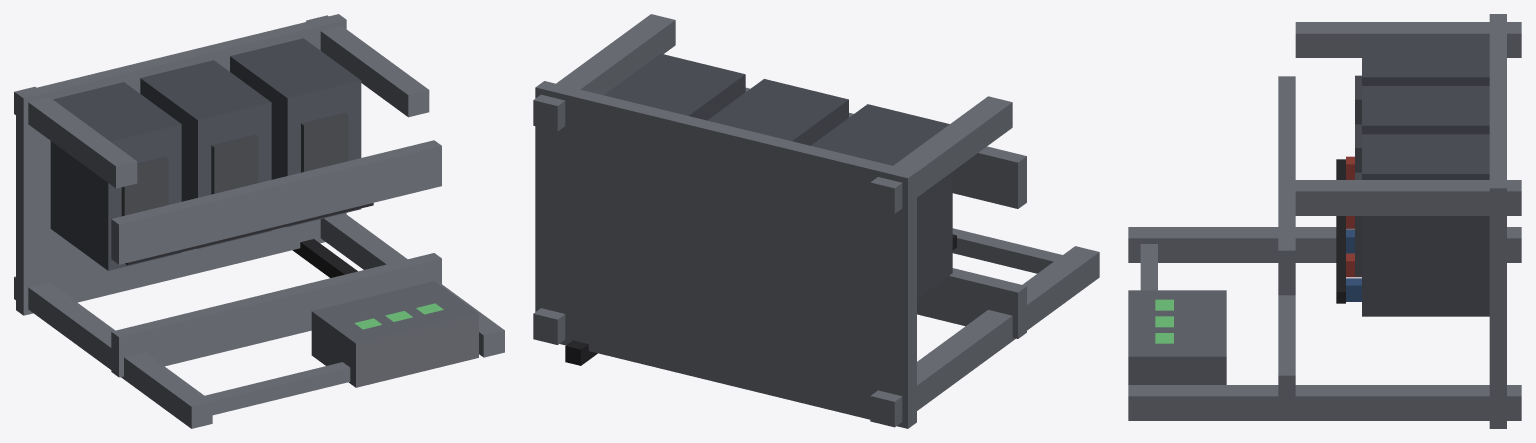
Rendered from bank_ground_standard_c3_S.obj.
The picture shows the model from 3 angles, left to right: view 1: azimuth 30°, elevation 25°; view 2: azimuth 150°, elevation 25°; view 3: azimuth 270°, elevation 25°; orthographic projection. The views are drawn at different scales.
Visible parts, largest first — view 1: bank_ground_standard_c3_S; view 2: bank_ground_standard_c3_S; view 3: bank_ground_standard_c3_S.
Part boxes in pixels (x1,y1,x2,y2): bank_ground_standard_c3_S: (14, 14, 504, 428); bank_ground_standard_c3_S: (533, 14, 1099, 428); bank_ground_standard_c3_S: (1128, 14, 1521, 428).
Bounding box in the file's own units: 0.84 × 0.56 × 0.8.
1 material, 1 textured.
